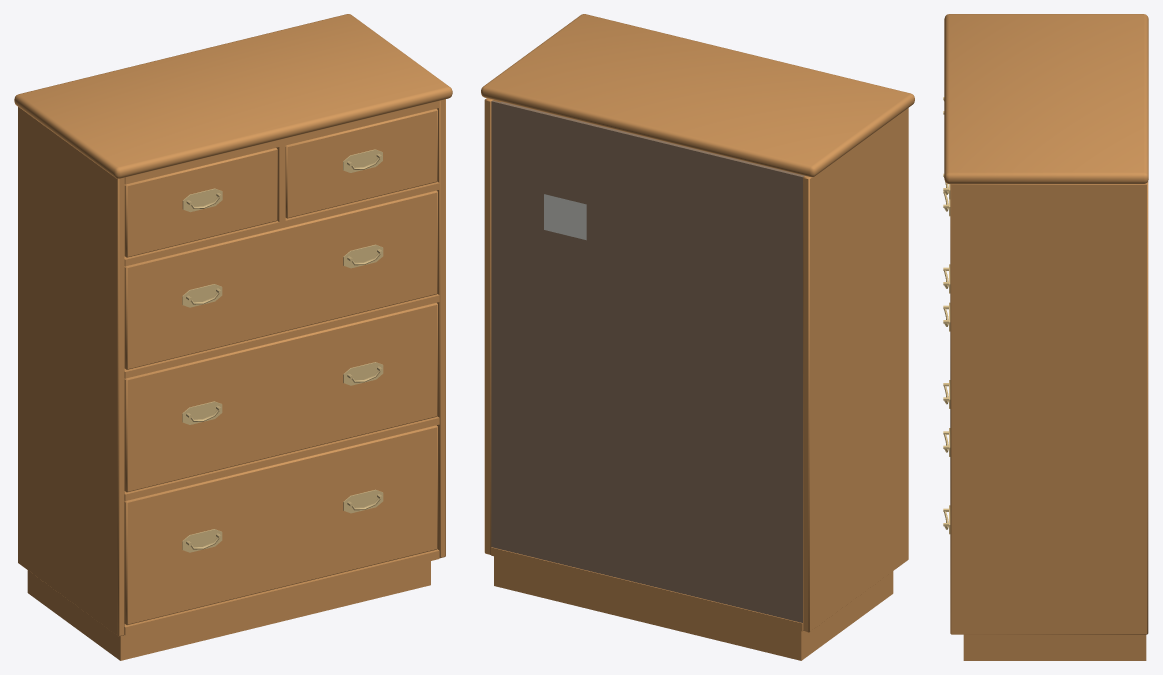
File: Kit_Dresser70s.fbx
The picture shows the model from 3 angles, left to right: view 1: azimuth 30°, elevation 25°; view 2: azimuth 150°, elevation 25°; view 3: azimuth 270°, elevation 25°; orthographic projection.
Parts seen in each view (by area): view 1: Kit_Dresser70s_LOD0; view 2: Kit_Dresser70s_LOD0; view 3: Kit_Dresser70s_LOD0.
Boxes of the visible parts, x1=… form: Kit_Dresser70s_LOD0: x1=14, y1=14, x2=452, y2=660; Kit_Dresser70s_LOD0: x1=481, y1=14, x2=914, y2=660; Kit_Dresser70s_LOD0: x1=943, y1=14, x2=1148, y2=660.
Size of what is drawn, in the model's own units: 0.86 by 1.22 by 0.4605.
